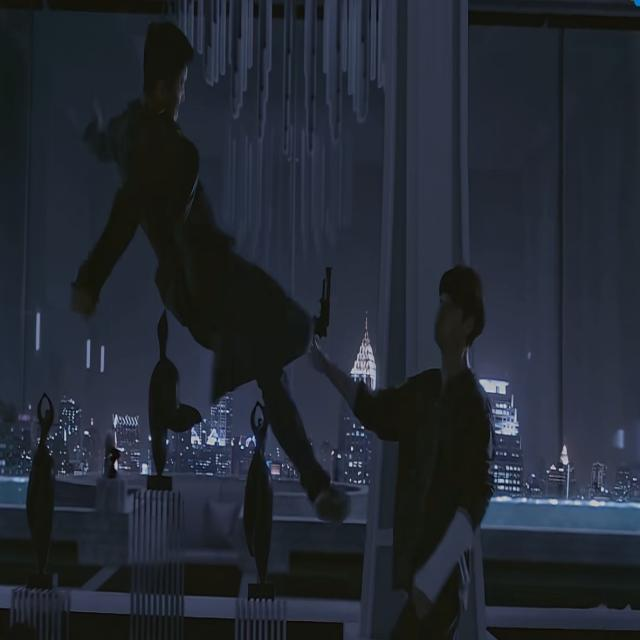fight: (68, 10, 500, 640)
